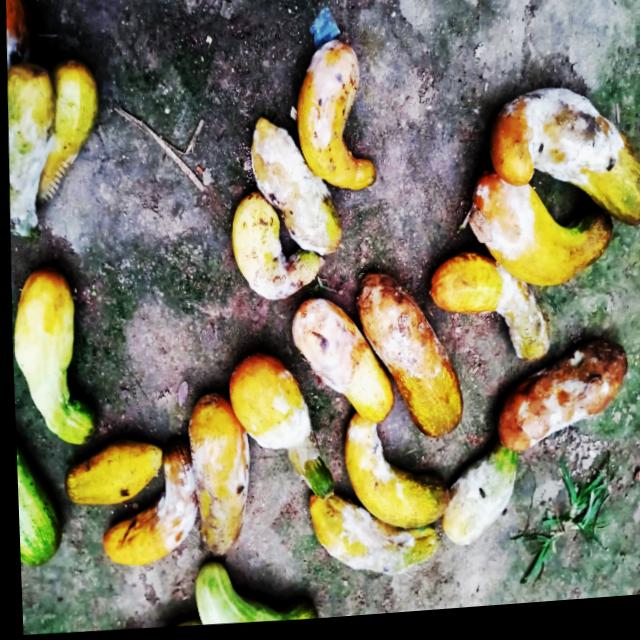Pythium-Fruit-Rot: (504, 87, 625, 203), (244, 127, 336, 267), (506, 353, 617, 461), (352, 272, 442, 396), (317, 503, 414, 586), (287, 302, 361, 403), (462, 181, 539, 272), (296, 45, 358, 153), (482, 268, 545, 372), (246, 396, 322, 481), (184, 421, 247, 522), (5, 125, 57, 244), (443, 463, 511, 551), (143, 461, 201, 559), (337, 421, 397, 500), (240, 242, 293, 307), (5, 23, 33, 74)
